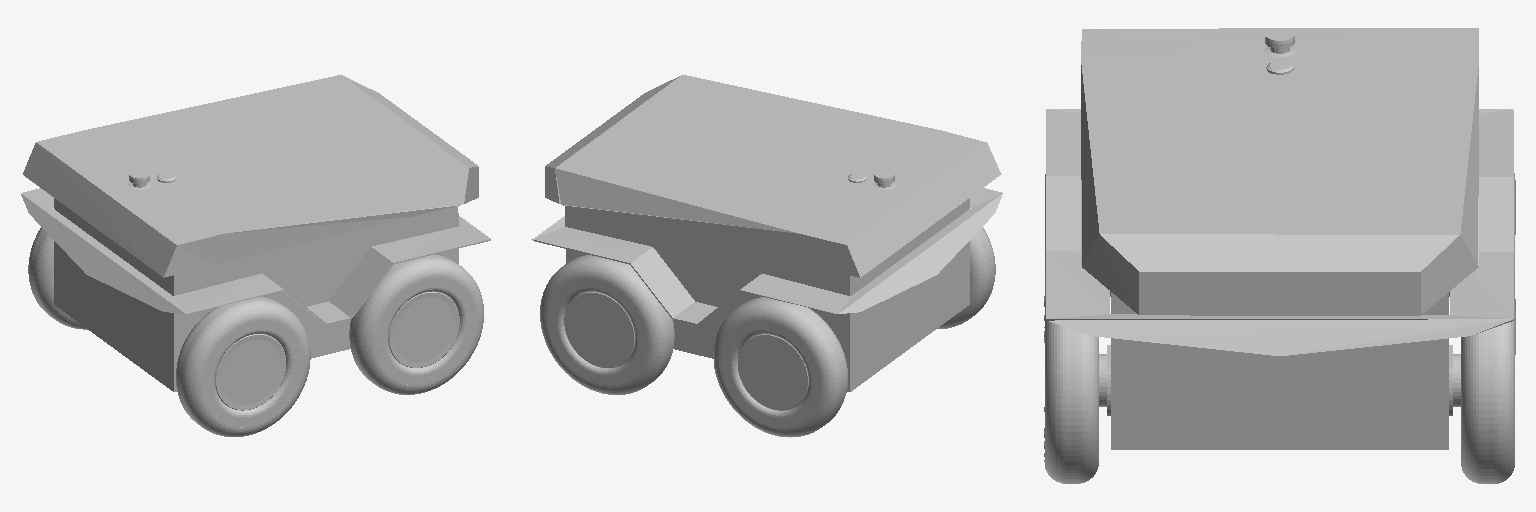
The robot description file, URDF, robot "yhs_chassis_description":
<robot name="yhs_chassis_description">
  <link name="base_link">
    <visual>
      <origin
        xyz="-0.27 0.21 0"
        rpy="1.57 0 0" />
      <geometry>
        <mesh
          filename="package://yhs_chassis_description/meshes/DGT-001S.STL"/>
      </geometry>
      <material
        name="">
        <color
          rgba="0.8 0.8 0.8 1" />
      </material>
    </visual>
  </link>
</robot>

--- Render facts (derived) ---
Views: 3 orthographic renders of the robot side by side, from view 1: azimuth 30°, elevation 25°; view 2: azimuth 150°, elevation 25°; view 3: azimuth 270°, elevation 25°.
Model yhs_chassis_description with 1 links and 0 joints (none), rooted at base_link, posed all joints at 0.
Links seen in each view (by area): view 1: base_link; view 2: base_link; view 3: base_link.
Link boxes in pixels (box(x1,y1,x2,y2)): base_link: box(21, 75, 490, 436); base_link: box(532, 75, 1002, 437); base_link: box(1044, 28, 1515, 483).
Bounding box of the posed robot: 0.5138 × 0.4333 × 0.3042 m (x, y, z).
Meshes: 1 distinct files referenced, 1 mesh visuals loaded (1 binary STL).